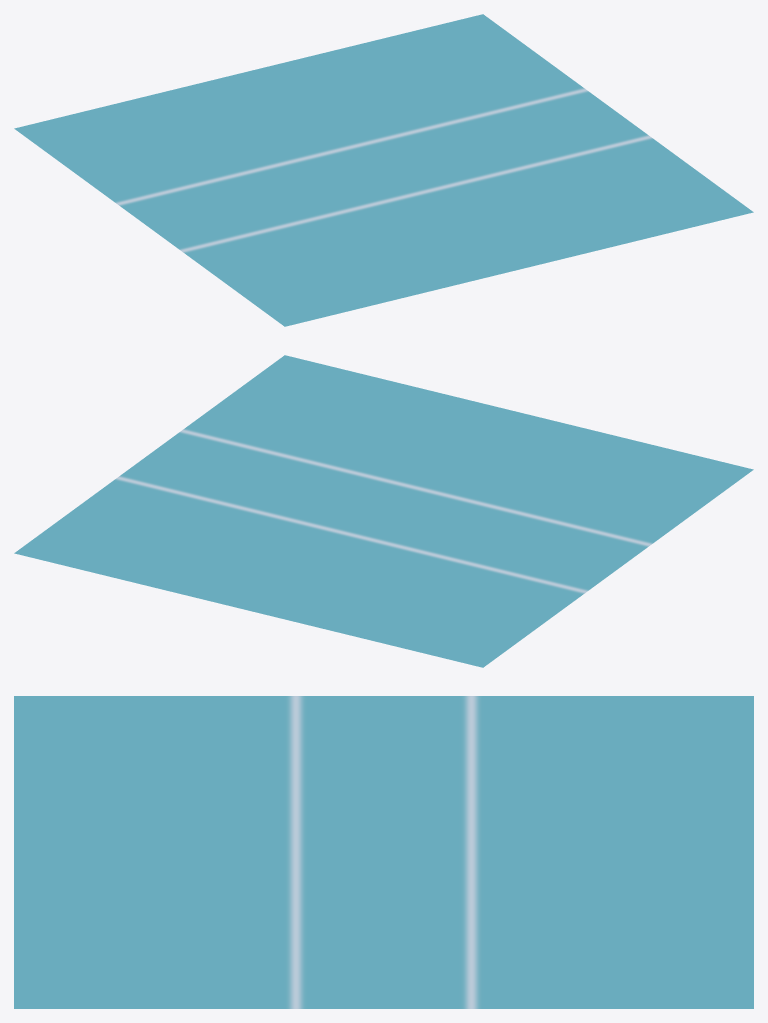
File: floor.glb
3 views of the same model, one above another, from view 1: azimuth 30°, elevation 25°; view 2: azimuth 150°, elevation 25°; view 3: azimuth 270°, elevation 25° (orthographic). The views are drawn at different scales.
Visible parts, largest first — view 1: Track.001; view 2: Track.001; view 3: Track.001.
Boxes of the visible parts, x1,y1,x2,y2 form: Track.001: [14, 14, 753, 326]; Track.001: [14, 355, 753, 667]; Track.001: [14, 696, 753, 1008].
Bounding box in the file's own units: 25 × 0 × 25.
Materials: 1 (1 with a texture image).
